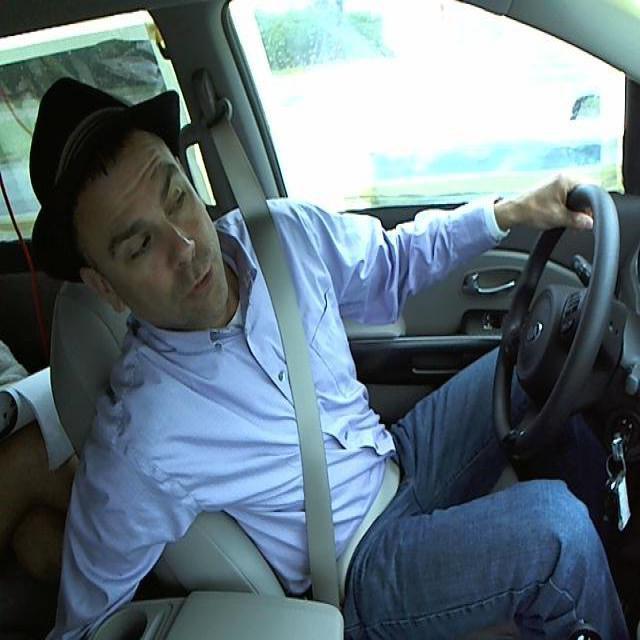seatbelt: (284, 248, 337, 563)
